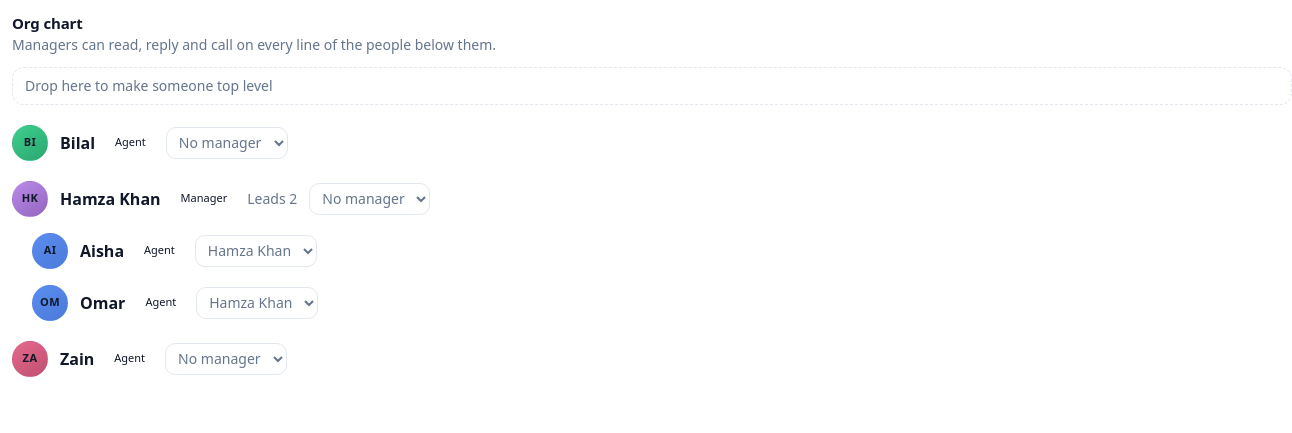
OrgTreePanel › shows the rejection message in an alert
The image size is (1292, 433).
Select "Hamza Khan" in the dropdown named "Manager of Zain" at (226, 358), box [165,342,287,374]
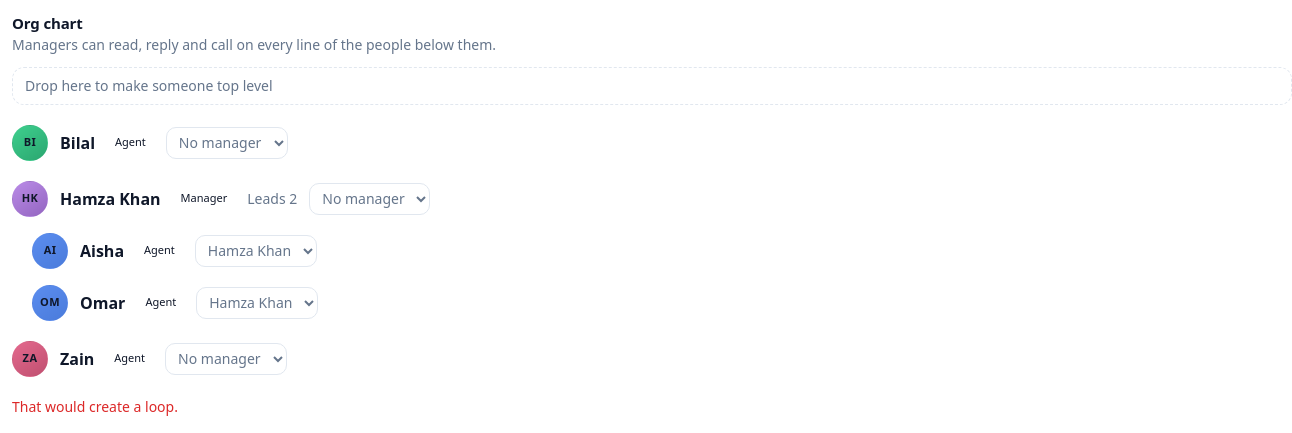
Expected: the message reads "That would create a loop.", [12,396,178,416]
